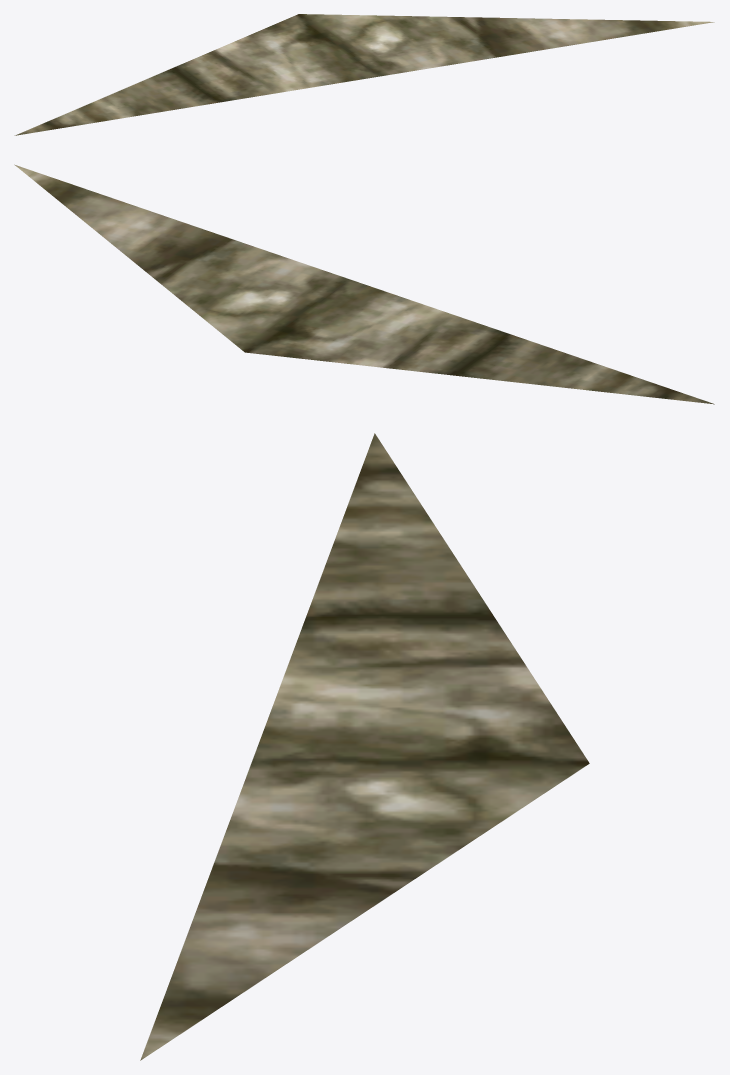
File: CB_NEWPLAYSURFACE_CB_PLAYSURFACE102.fbx
The picture shows the model from 3 angles, top to bottom: view 1: azimuth 30°, elevation 25°; view 2: azimuth 150°, elevation 25°; view 3: azimuth 270°, elevation 25°; orthographic projection. The views are drawn at different scales.
Parts seen in each view (by area): view 1: CB_NEWPLAYSURFACE_CB_PLAYSURFACE102; view 2: CB_NEWPLAYSURFACE_CB_PLAYSURFACE102; view 3: CB_NEWPLAYSURFACE_CB_PLAYSURFACE102.
Boxes of the visible parts, bbox=[...] form: CB_NEWPLAYSURFACE_CB_PLAYSURFACE102: bbox=[14, 14, 714, 135]; CB_NEWPLAYSURFACE_CB_PLAYSURFACE102: bbox=[14, 164, 714, 404]; CB_NEWPLAYSURFACE_CB_PLAYSURFACE102: bbox=[140, 433, 589, 1060].
Size of the model in its own units: 88636 by 0.00437 by 26824.
Materials: 1 (1 with a texture image).
